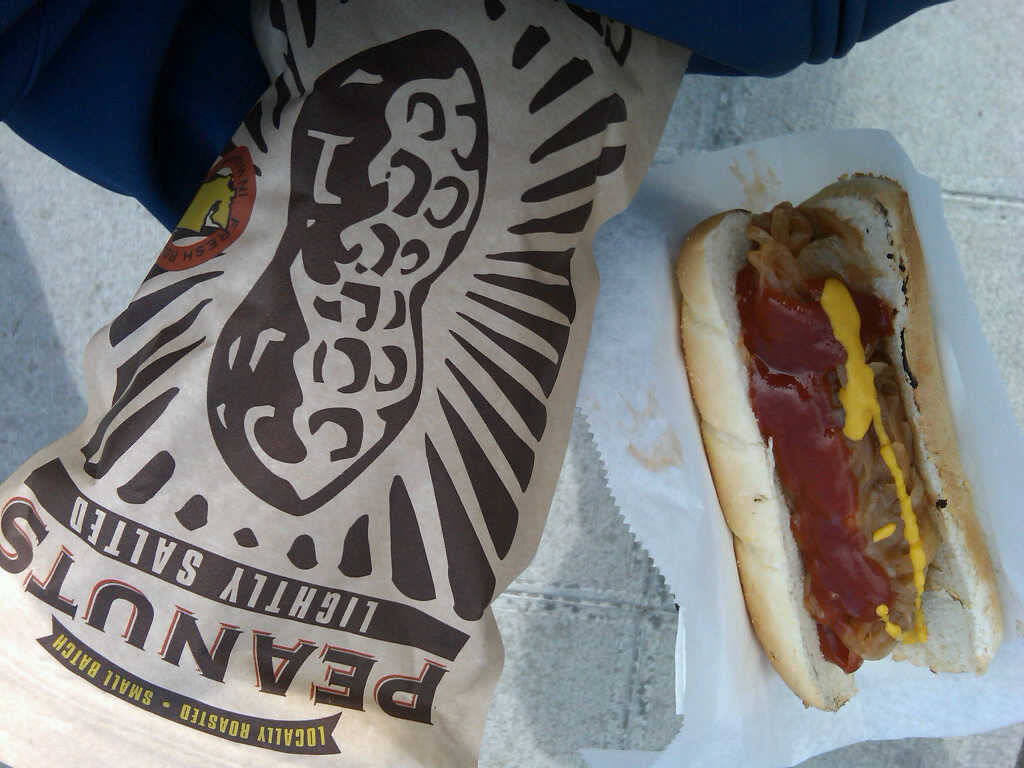hot_dog: (666, 172, 1006, 718)
